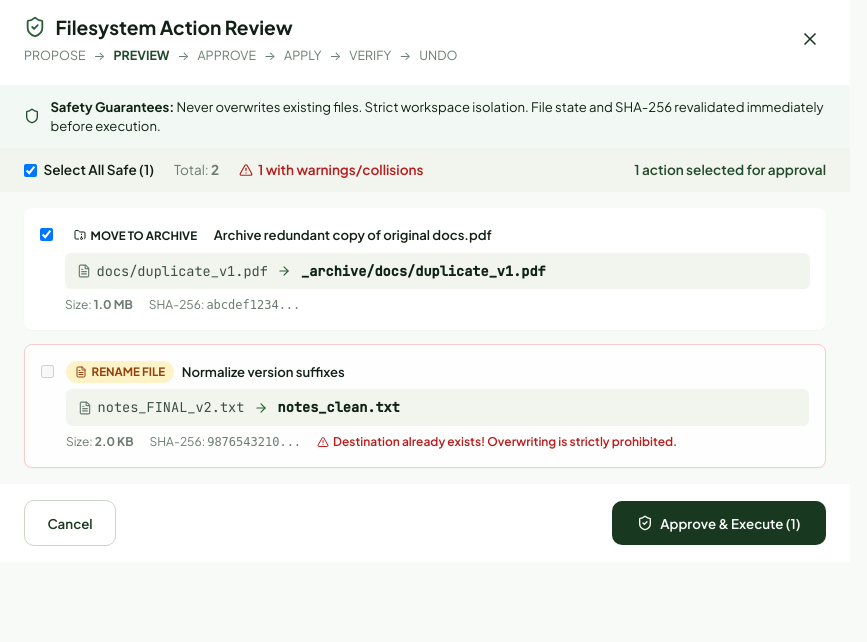
Test case: Filesystem Action System Components › ActionReviewModal › displays partial failures transparently without claiming whole batch succeeded
Step 1. Click the button "Approve & Execute (1)" → (719,523), box top-left (612, 501), bottom-right (826, 545)
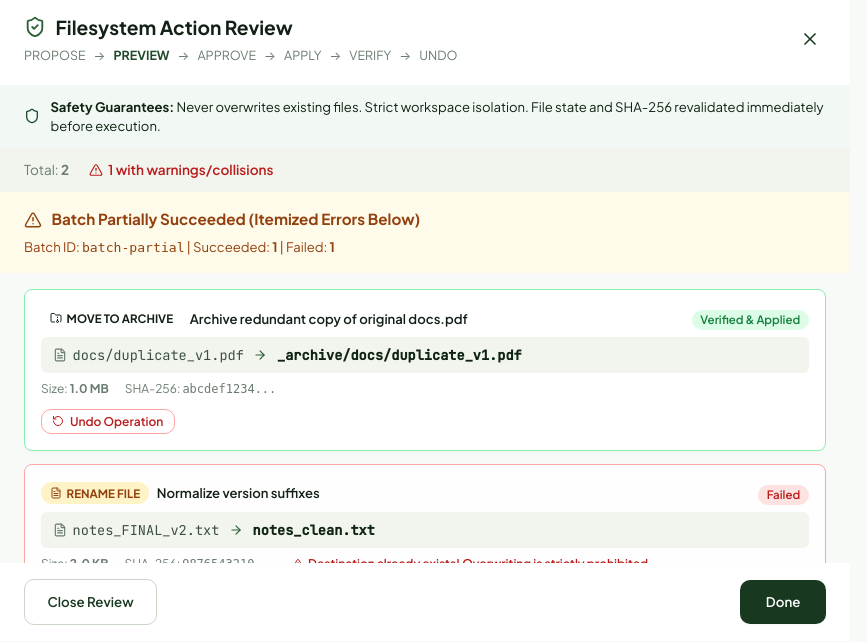
expect the text "Batch Partially Succeeded (Itemized Errors Below)" is shown: met, box top-left (52, 208), bottom-right (420, 231)
